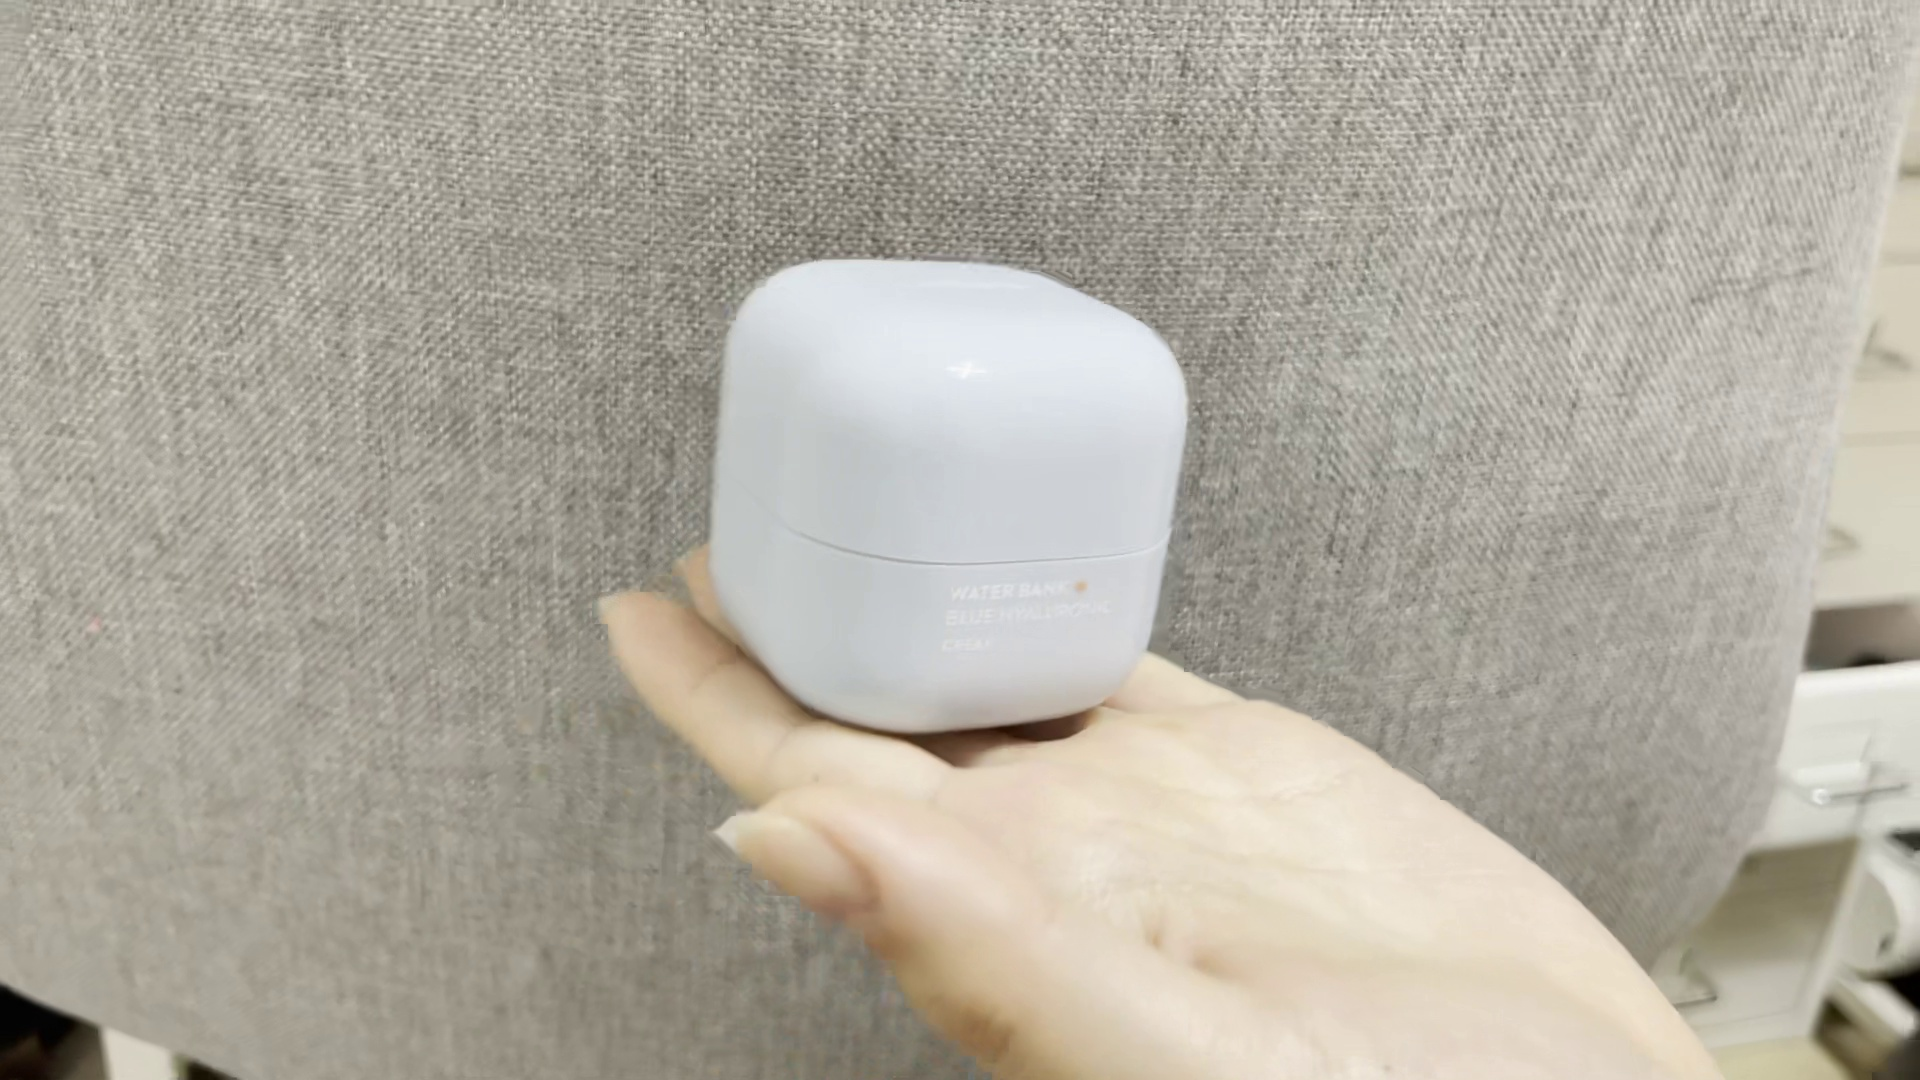cream: (705, 256, 1184, 727)
